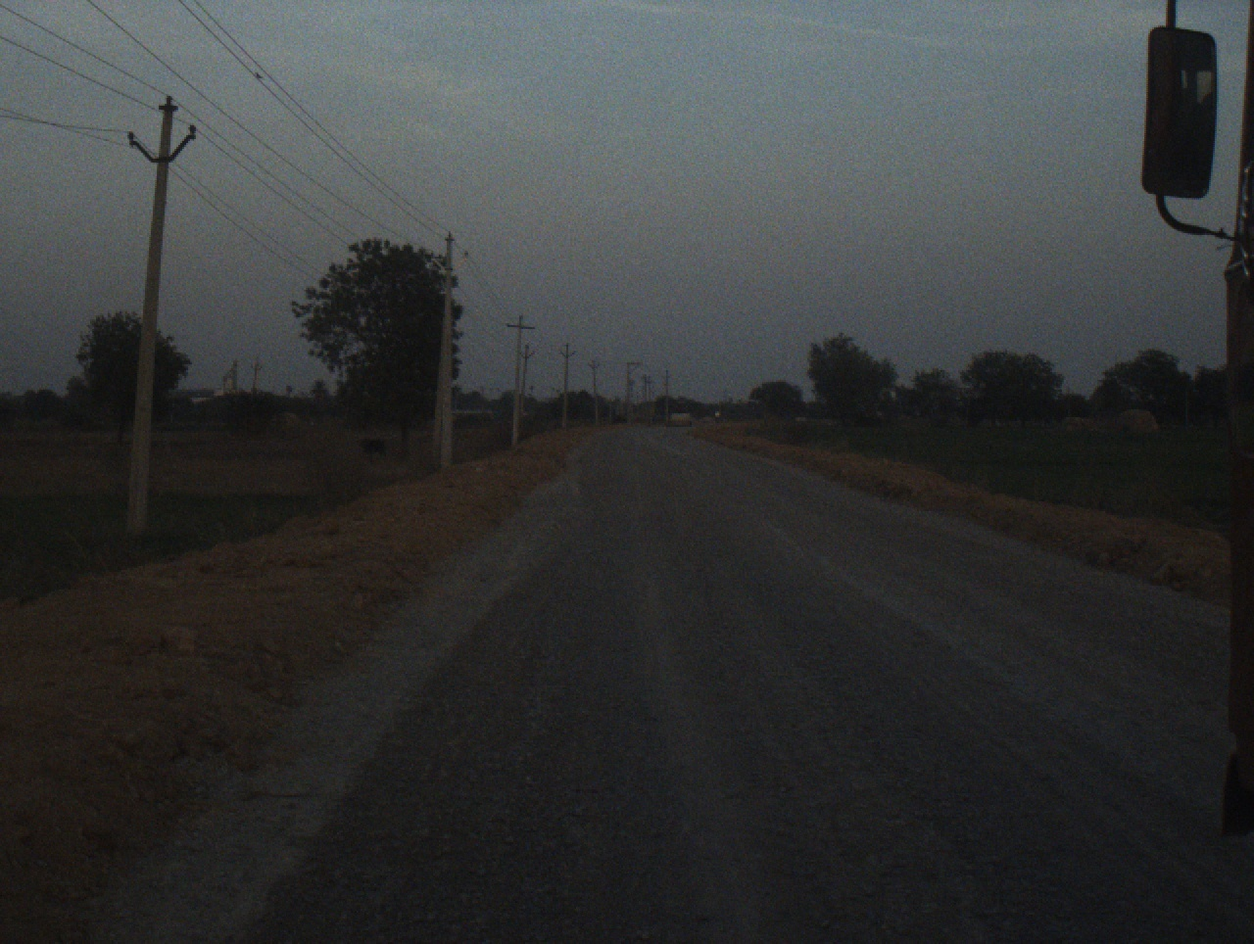animal: (356, 438, 390, 456)
vehicle fallback: (666, 394, 697, 431)
